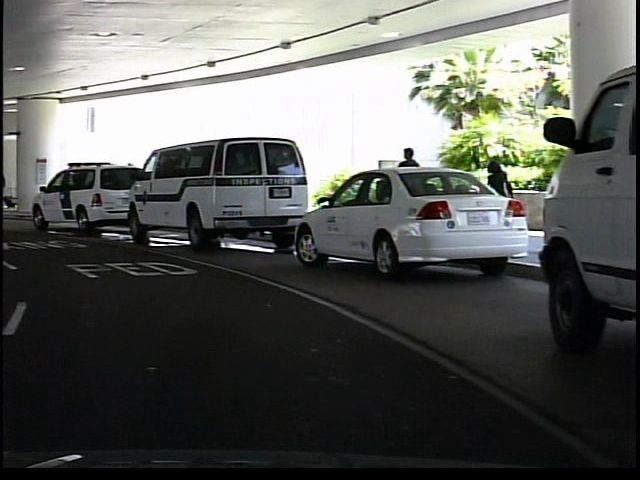person: (479, 154, 516, 244), (391, 144, 426, 238)
